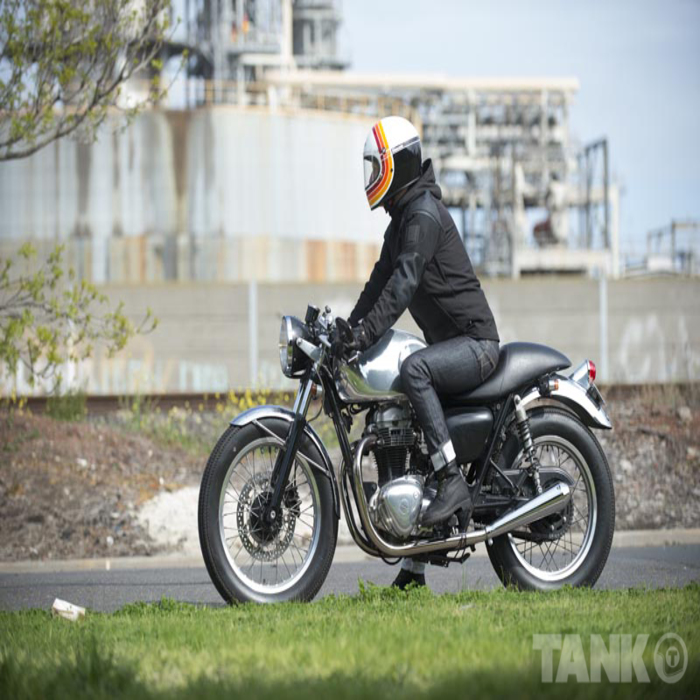h: (356, 111, 425, 224)
